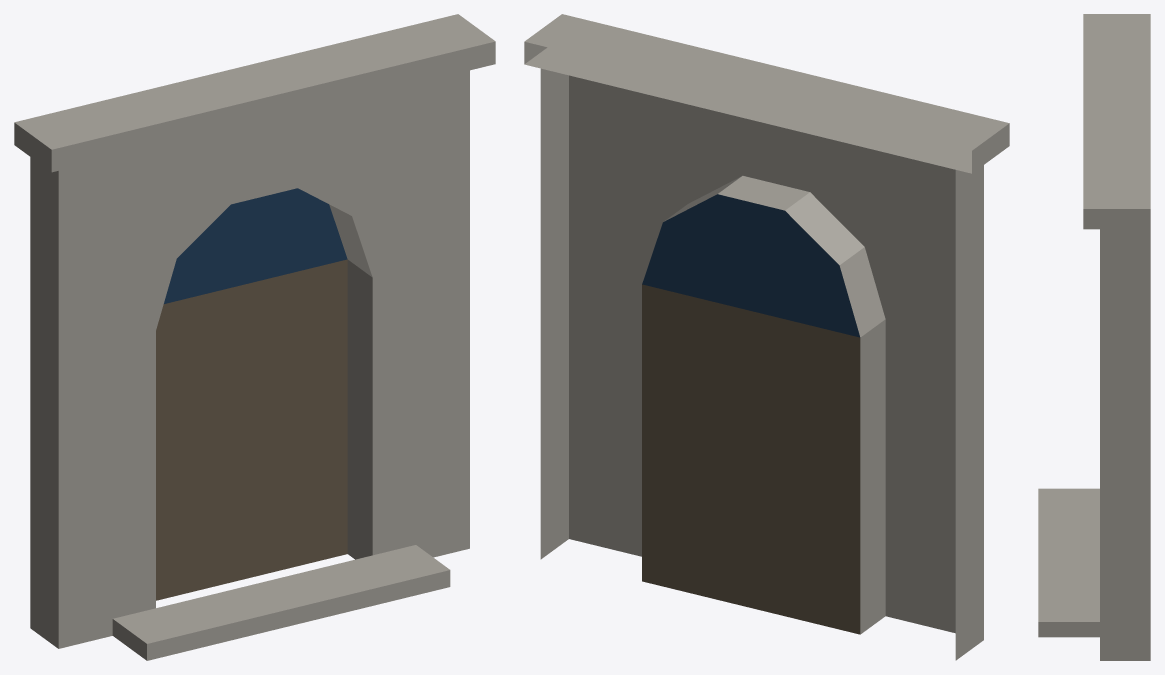
Rendered from entrance.fbx.
3 renders of one model, left to right at view 1: azimuth 30°, elevation 25°; view 2: azimuth 150°, elevation 25°; view 3: azimuth 270°, elevation 25°, orthographic. The views are drawn at different scales.
Visible parts, largest first — view 1: a2012/600/entrance; view 2: a2012/600/entrance; view 3: a2012/600/entrance.
Boxes of the visible parts, box(x1,y1,x2,y2) form: a2012/600/entrance: box(14, 14, 495, 660); a2012/600/entrance: box(524, 14, 1009, 660); a2012/600/entrance: box(1038, 14, 1150, 660).
Size of the model in its own units: 4.1 by 4.5 by 1.
